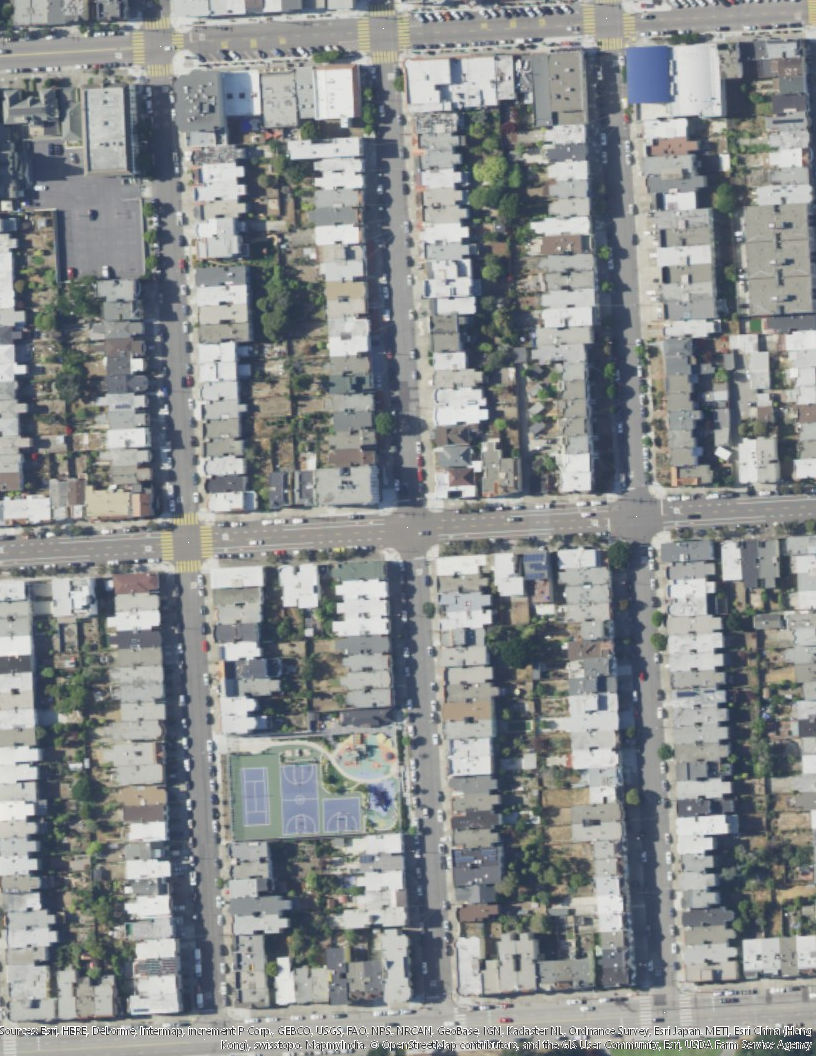zebracross: (198, 524, 214, 558), (639, 993, 653, 1030), (371, 47, 401, 64), (357, 15, 371, 51), (396, 15, 411, 48), (131, 29, 145, 64), (159, 529, 174, 561), (581, 2, 596, 34), (680, 992, 693, 1028), (175, 558, 201, 574), (143, 15, 172, 29), (622, 12, 636, 37), (147, 63, 173, 76), (369, 2, 395, 15), (599, 36, 623, 50), (171, 513, 198, 525), (2, 1035, 17, 1056), (172, 30, 183, 50)
